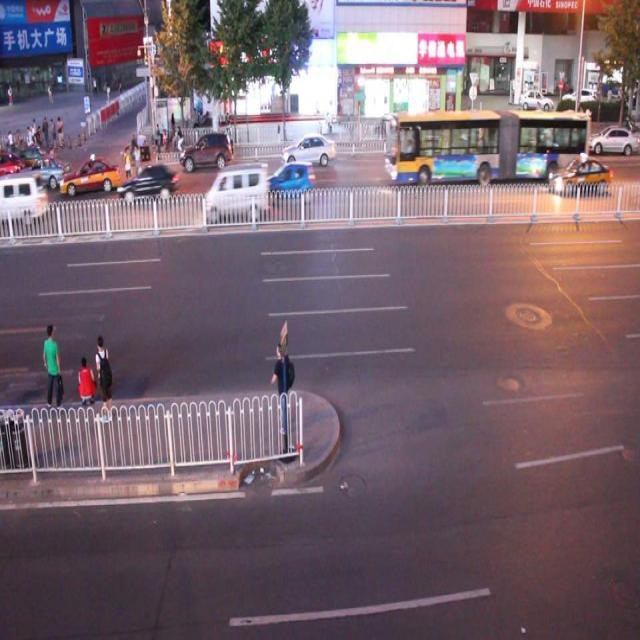car: (546, 154, 610, 194), (118, 165, 178, 201), (586, 121, 640, 159), (59, 160, 120, 193), (180, 133, 235, 169), (266, 160, 313, 201), (19, 156, 71, 190), (282, 133, 334, 167), (15, 142, 60, 174), (1, 149, 24, 183)
truck: (202, 166, 267, 216), (1, 172, 46, 226)
van: (383, 112, 588, 185)
